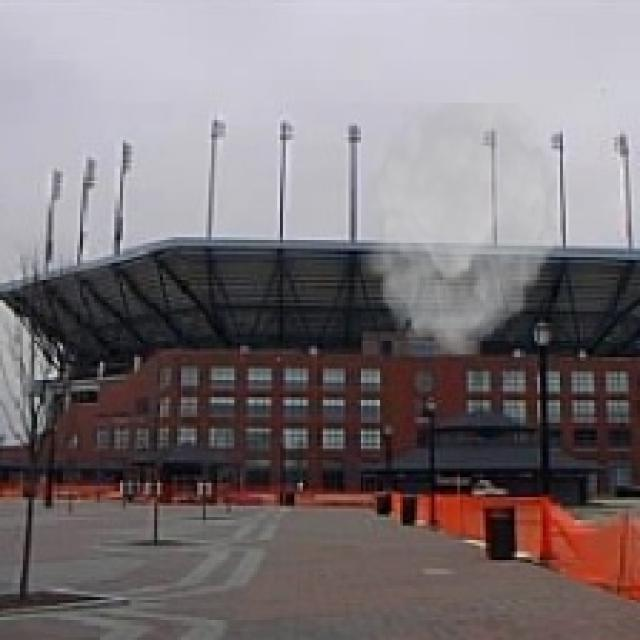Smoke: (357, 103, 569, 354)
